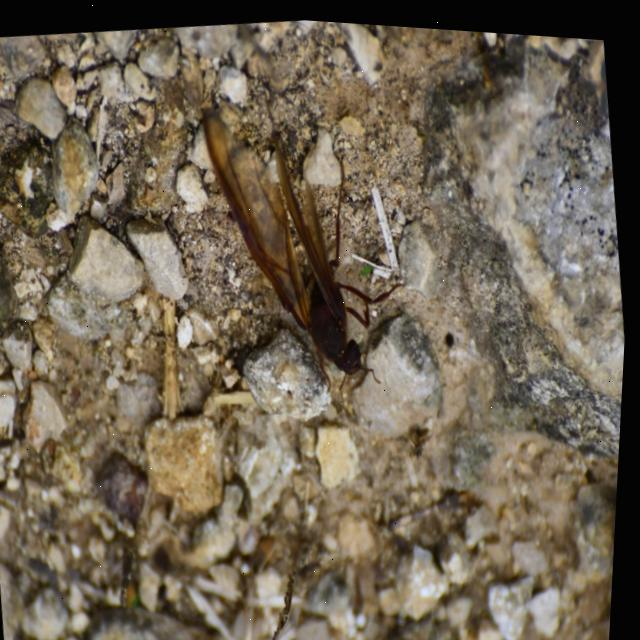Alive-Female-Alate: (184, 36, 432, 421)
